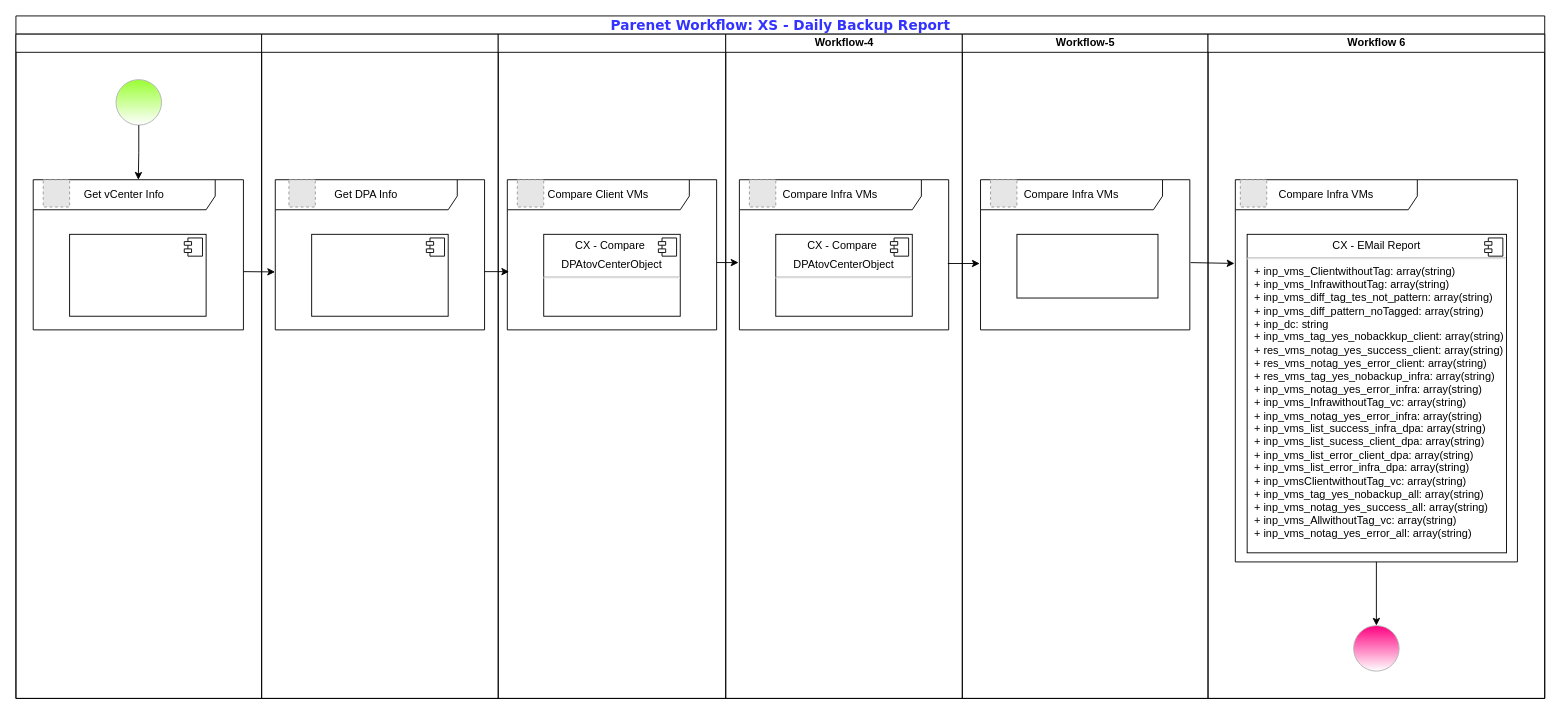
This 1561x714 diagram has some shape labels left out. Grey dashed boxes stand in for pictures. Here are the shapes that lost their labels. From the top down, the box of each, then its label:
(69, 233, 206, 316): XS - Report VM Backup vCenter + inp_dc: string
(311, 233, 448, 316): CX - Run Report DPA create info + inp_dc: string
(1016, 233, 1158, 298): «script» Concat Clients and Infra VMs
(15, 33, 262, 698): Workflow-1
(261, 33, 498, 698): Workflow-2
(497, 33, 726, 698): Workflow-3
